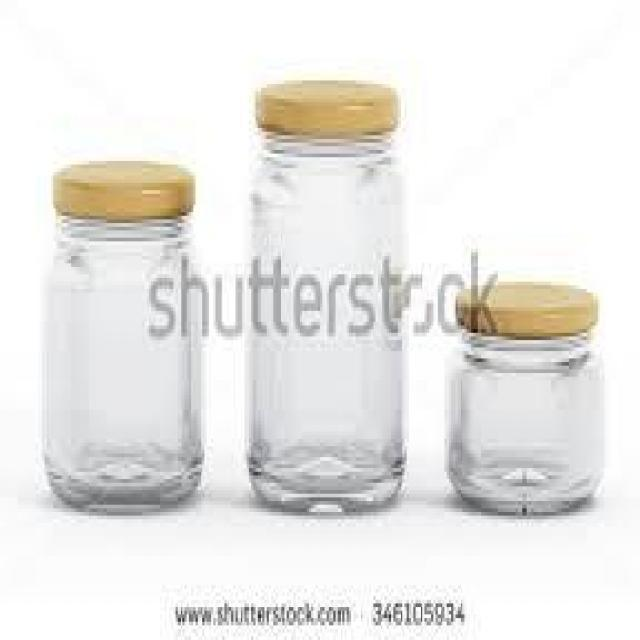glass: (240, 77, 413, 520), (443, 278, 608, 520)
